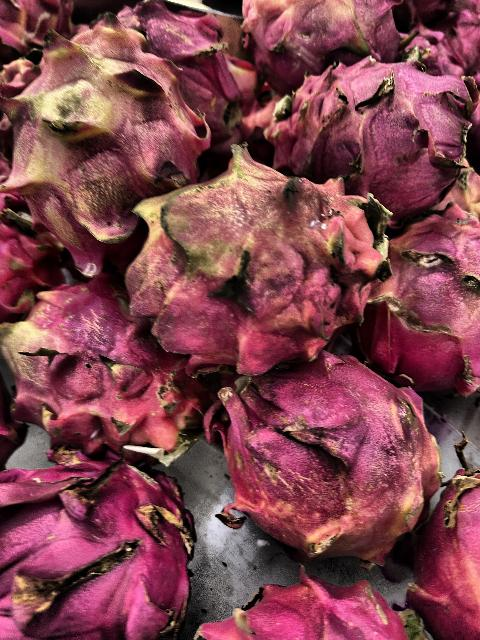buah-naga-belum-matang: (129, 151, 385, 359), (204, 342, 419, 556), (2, 276, 214, 469), (4, 34, 193, 226), (388, 207, 480, 383), (228, 0, 390, 70)
buah-naga-matang: (0, 442, 208, 640), (260, 52, 478, 208), (116, 0, 258, 146), (200, 570, 413, 640), (406, 472, 480, 640)
